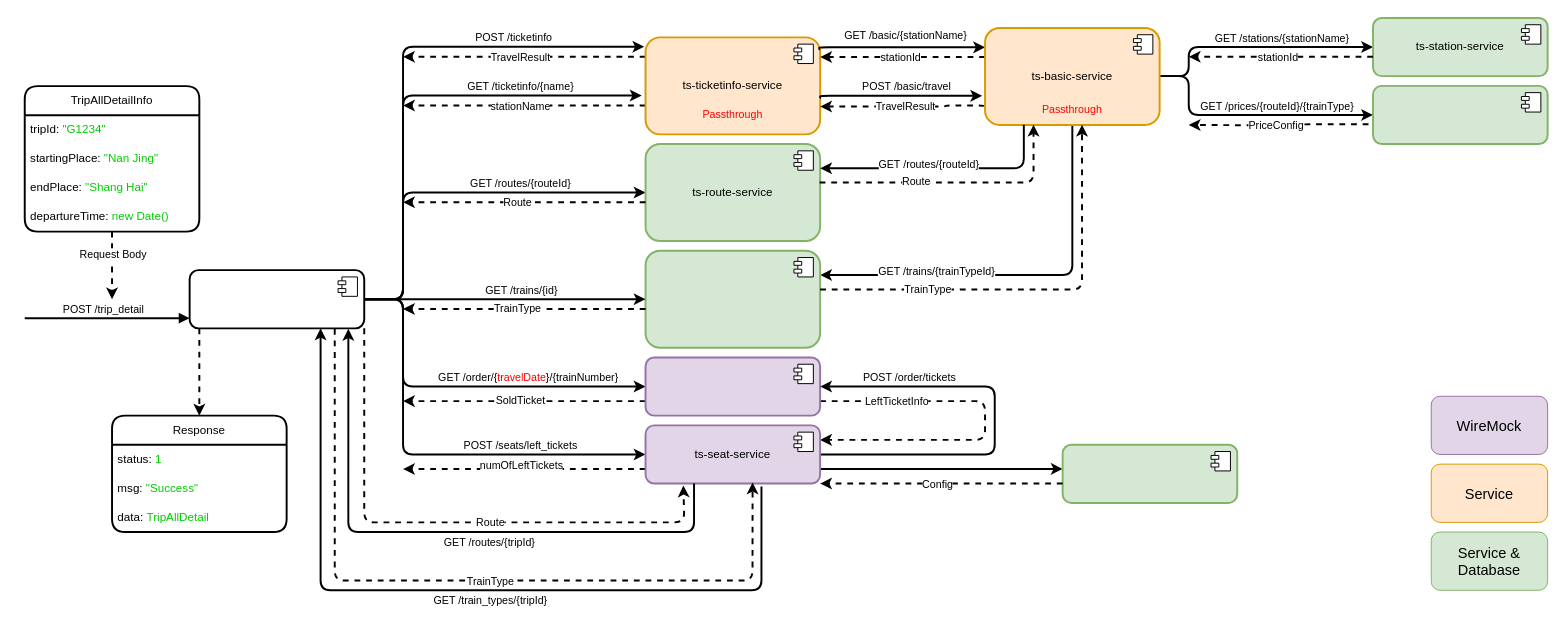
The diagram is 1565 pixels wide and 623 high, and some of its shapes have lost their labels. The shapes that lost their labels are listed below. From the top down, each one's centre as x and y in pixels, then its label:
At pixel 1460 114: "ts-price-service".
At pixel 276 299: "ts-travel-service".
At pixel 732 298: "ts-train-service".
At pixel 732 386: "ts-order-service".
At pixel 1149 473: "ts-config-service".
